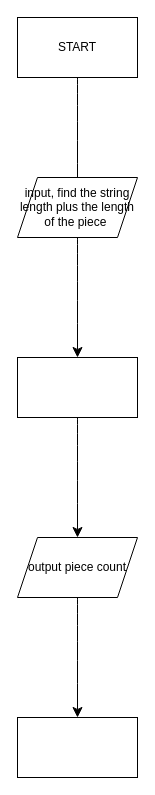
The diagram is 155 pixels wide and 795 high, and some of its shapes have lost their labels. Each missing label, with the box of its shape:
end: (16, 716, 138, 778)
piece count = floor( the length of the string plus the piece of length: (16, 356, 138, 418)
